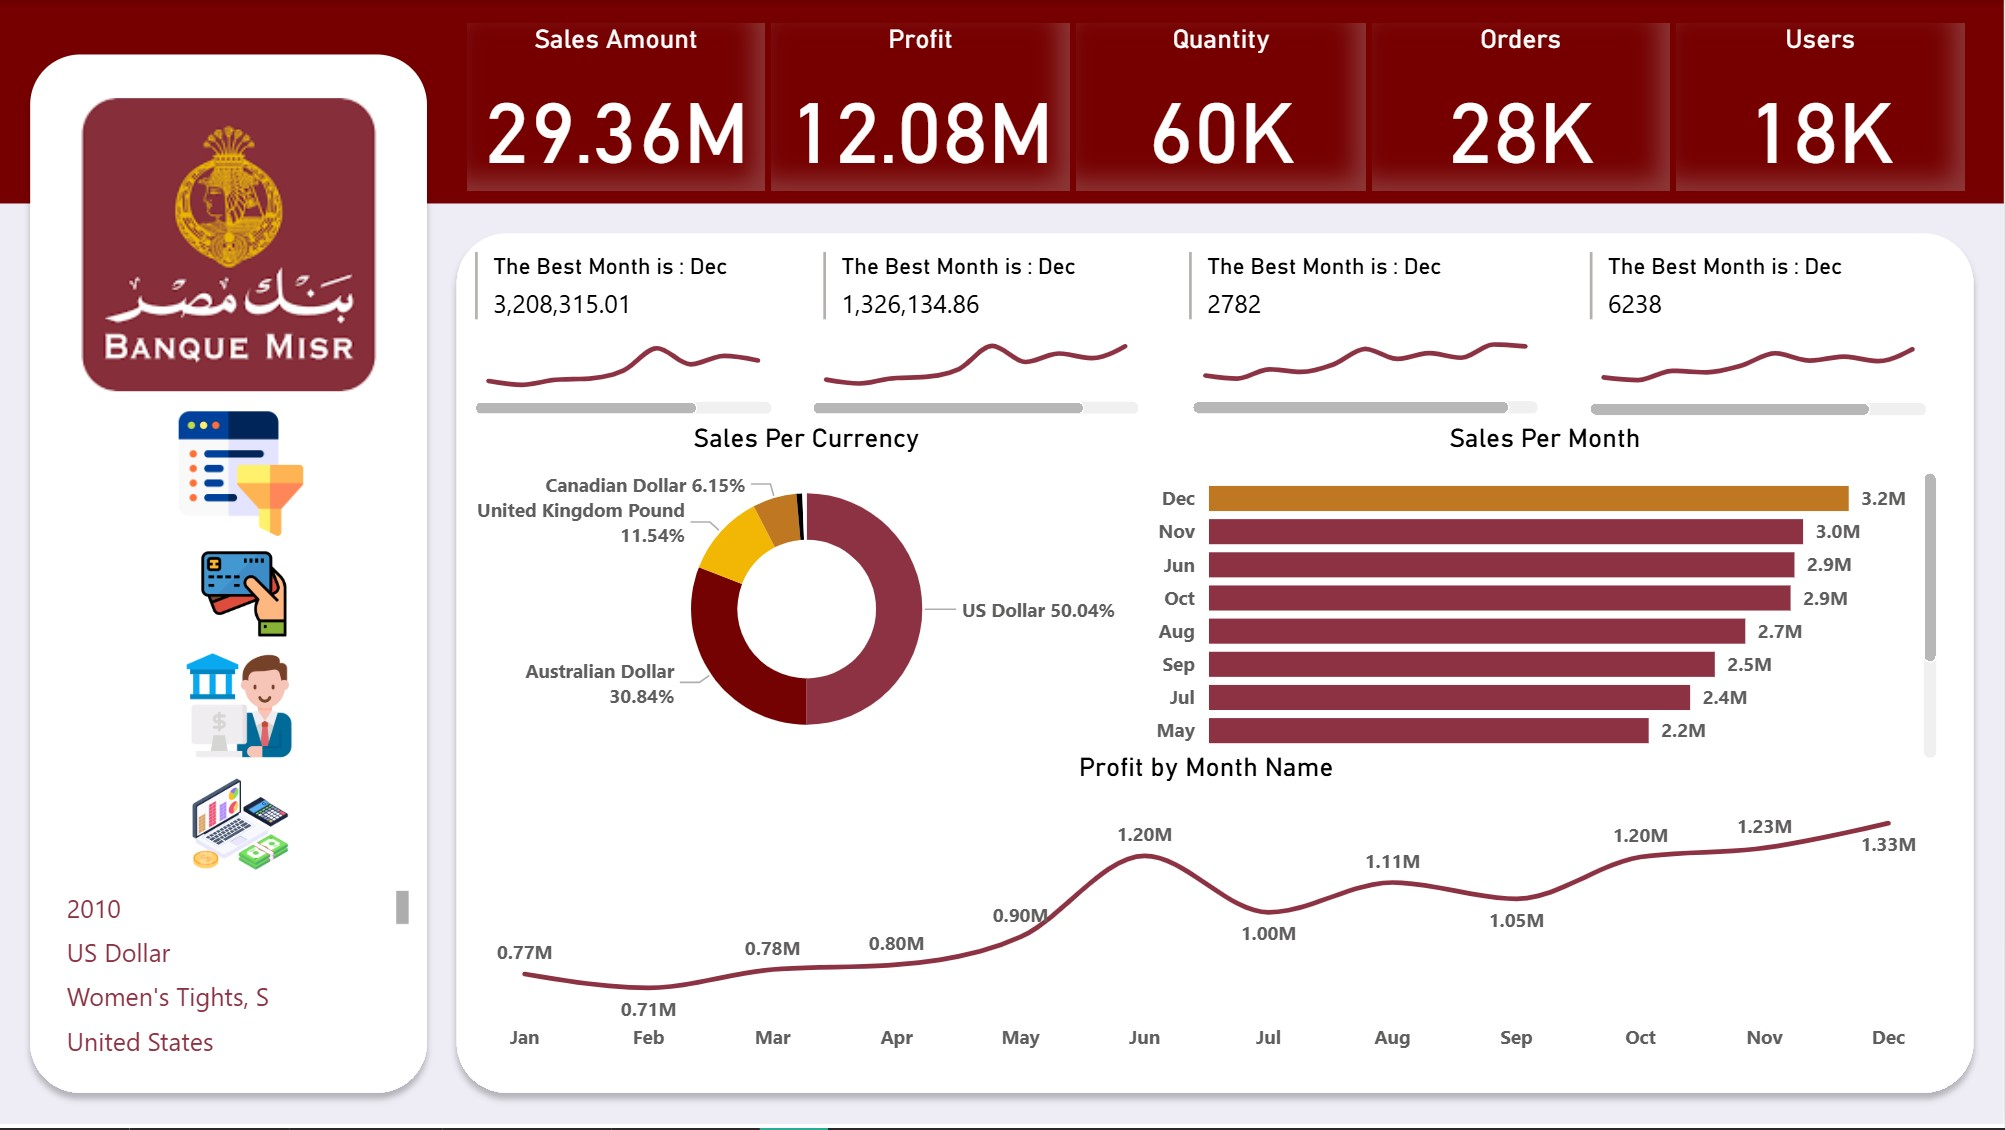

The page's visual inventory and layout, read from the dashboard file:
{"tool":"powerbi","page":{"name":"Overview","canvas":[1280,720],"ordinal":0},"visuals":[{"type":"image","box":[47.3,56,201.5,201.5],"z":0},{"type":"donutChart","title":"Sales Per Currency","fields":{"Category":["dim_Currency.CurrencyName"],"Y":["Sum(fact_InternetSales.SalesAmount)"]},"box":[299,270,432.9,218.7],"z":1000},{"type":"clusteredBarChart","title":"Sales Per Month","fields":{"Category":["Calendar.Month Name"],"Y":["Sum(fact_InternetSales.SalesAmount)"]},"box":[732,270,508.8,218.7],"z":2000},{"type":"lineChart","fields":{"Category":["Calendar.Month Name"],"Y":["fact_InternetSales.Profit"]},"box":[298.5,480.1,942.8,200.2],"z":3000},{"type":"multiRowCard","fields":{"Values":["fact_InternetSales.Best Month","Sum(fact_InternetSales.SalesAmount)"]},"box":[298.5,156.2,199,113.2],"z":4000},{"type":"lineChart","fields":{"Y":["Sum(fact_InternetSales.SalesAmount)"],"Category":["Calendar.Month Name"]},"box":[298.5,197.8,199,72.1],"z":5000},{"type":"multiRowCard","fields":{"Values":["fact_InternetSales.Best Month","fact_InternetSales.Profit"]},"box":[520.7,156.2,210.6,113.4],"z":6000},{"type":"lineChart","fields":{"Category":["Calendar.Month Name"],"Y":["fact_InternetSales.Profit"]},"box":[514.9,197.8,217.7,72.1],"z":7000},{"type":"multiRowCard","fields":{"Values":["fact_InternetSales.Best Month","fact_InternetSales.SalesOrderNumber"]},"box":[754.5,156.2,232.6,113.4],"z":8000},{"type":"lineChart","fields":{"Category":["Calendar.Month Name"],"Y":["fact_InternetSales.Orders"]},"box":[756.1,197.8,230.3,71.8],"z":9000},{"type":"multiRowCard","fields":{"Values":["fact_InternetSales.Best Month","Sum(fact_InternetSales.OrderQuantity)"]},"box":[1010.3,156.2,224.5,113.4],"z":10000},{"type":"lineChart","fields":{"Category":["Calendar.Month Name"],"Y":["Sum(fact_InternetSales.OrderQuantity)"]},"box":[1010.3,197.8,224.5,72.9],"z":11000},{"type":"image","box":[82.1,411.7,141.8,77.1],"z":21000},{"type":"image","box":[78.4,488.8,153,74.6],"z":22000},{"type":"image","box":[73.4,347,166.7,64.7],"z":23000},{"type":"card","title":"Sales Amount","fields":{"Values":["Sum(fact_InternetSales.SalesAmount)"]},"box":[298.8,16,190.1,107],"z":24000},{"type":"card","title":"Users","fields":{"Values":["dim_Customer.All users"]},"box":[1070.4,16,183.7,107],"z":25000},{"type":"card","title":"Orders","fields":{"Values":["fact_InternetSales.Orders"]},"box":[876.3,16,190.1,107],"z":26000},{"type":"card","title":"Quantity","fields":{"Values":["Sum(fact_InternetSales.OrderQuantity)"]},"box":[687,16,185.3,107],"z":27000},{"type":"card","title":"Profit","fields":{"Values":["fact_InternetSales.Profit"]},"box":[492.9,16,190.1,107],"z":28000},{"type":"multiRowCard","fields":{"Values":["fact_InternetSales.yearfilter","fact_InternetSales.currencynamefilter","fact_InternetSales.englishproductfilter","fact_InternetSales.territorycountryfilter"]},"box":[38.6,563.4,227.6,125.6],"z":29000},{"type":"image","box":[80.8,257.5,149.3,89.6],"z":30000}]}

Visuals, with their boxes in screenshot pixels (x1, y1, x2, y2), scaled from the page's 1280x720 canvas onto the 2005x1130 screenshot:
image: bbox(74, 88, 390, 404)
"Sales Per Currency" donutChart: bbox(468, 424, 1146, 767)
"Sales Per Month" clusteredBarChart: bbox(1147, 424, 1944, 767)
lineChart - Calendar.Month Name x fact_InternetSales.Profit: bbox(468, 753, 1944, 1068)
multiRowCard - fact_InternetSales.Best Month x Sum(fact_InternetSales.SalesAmount): bbox(468, 245, 779, 423)
lineChart - Sum(fact_InternetSales.SalesAmount) x Calendar.Month Name: bbox(468, 310, 779, 424)
multiRowCard - fact_InternetSales.Best Month x fact_InternetSales.Profit: bbox(816, 245, 1146, 423)
lineChart - Calendar.Month Name x fact_InternetSales.Profit: bbox(807, 310, 1148, 424)
multiRowCard - fact_InternetSales.Best Month x fact_InternetSales.SalesOrderNumber: bbox(1182, 245, 1546, 423)
lineChart - Calendar.Month Name x fact_InternetSales.Orders: bbox(1184, 310, 1545, 423)
multiRowCard - fact_InternetSales.Best Month x Sum(fact_InternetSales.OrderQuantity): bbox(1583, 245, 1934, 423)
lineChart - Calendar.Month Name x Sum(fact_InternetSales.OrderQuantity): bbox(1583, 310, 1934, 425)
image: bbox(129, 646, 351, 767)
image: bbox(123, 767, 362, 884)
image: bbox(115, 545, 376, 646)
"Sales Amount" card: bbox(468, 25, 766, 193)
"Users" card: bbox(1677, 25, 1964, 193)
"Orders" card: bbox(1373, 25, 1670, 193)
"Quantity" card: bbox(1076, 25, 1366, 193)
"Profit" card: bbox(772, 25, 1070, 193)
multiRowCard - fact_InternetSales.yearfilter x fact_InternetSales.currencynamefilter: bbox(60, 884, 417, 1081)
image: bbox(127, 404, 360, 545)
